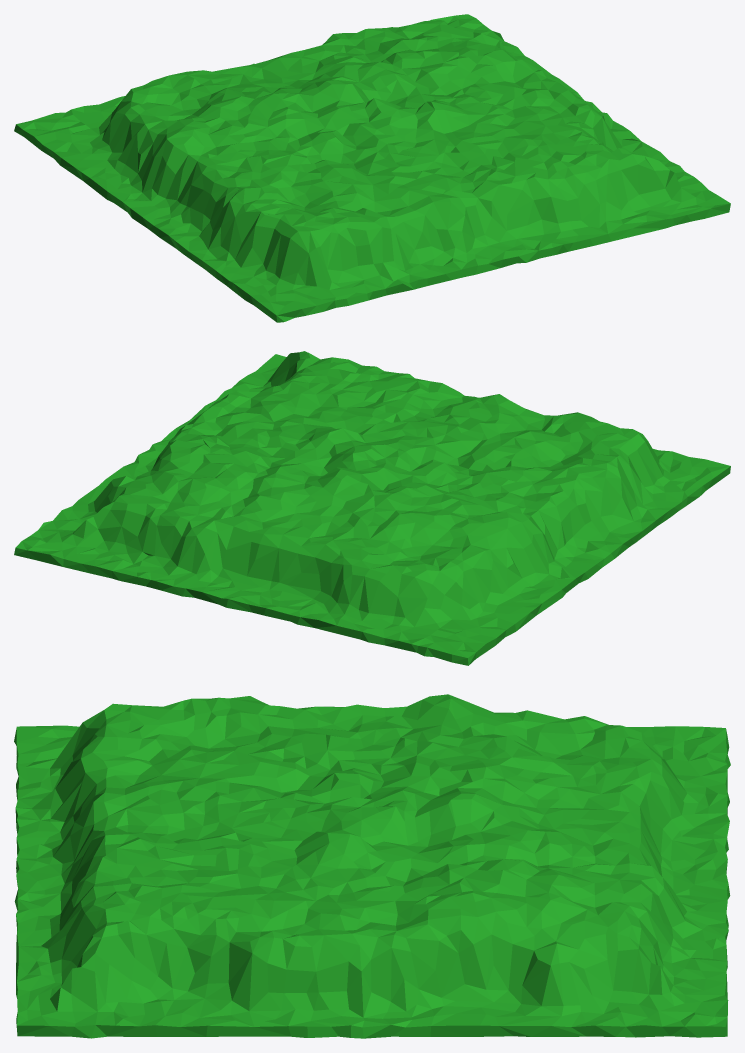
Rendered from hilly_terrain.fbx.
The picture shows the model from 3 angles, top to bottom: view 1: azimuth 30°, elevation 25°; view 2: azimuth 150°, elevation 25°; view 3: azimuth 270°, elevation 25°; orthographic projection. The views are drawn at different scales.
Parts seen in each view (by area): view 1: Plane; view 2: Plane; view 3: Plane.
Part boxes in pixels (<box>): Plane: <box>14,14,730,322</box>; Plane: <box>14,351,730,665</box>; Plane: <box>14,694,730,1038</box>.
Bounding box in the file's own units: 6050 × 830 × 6060.
